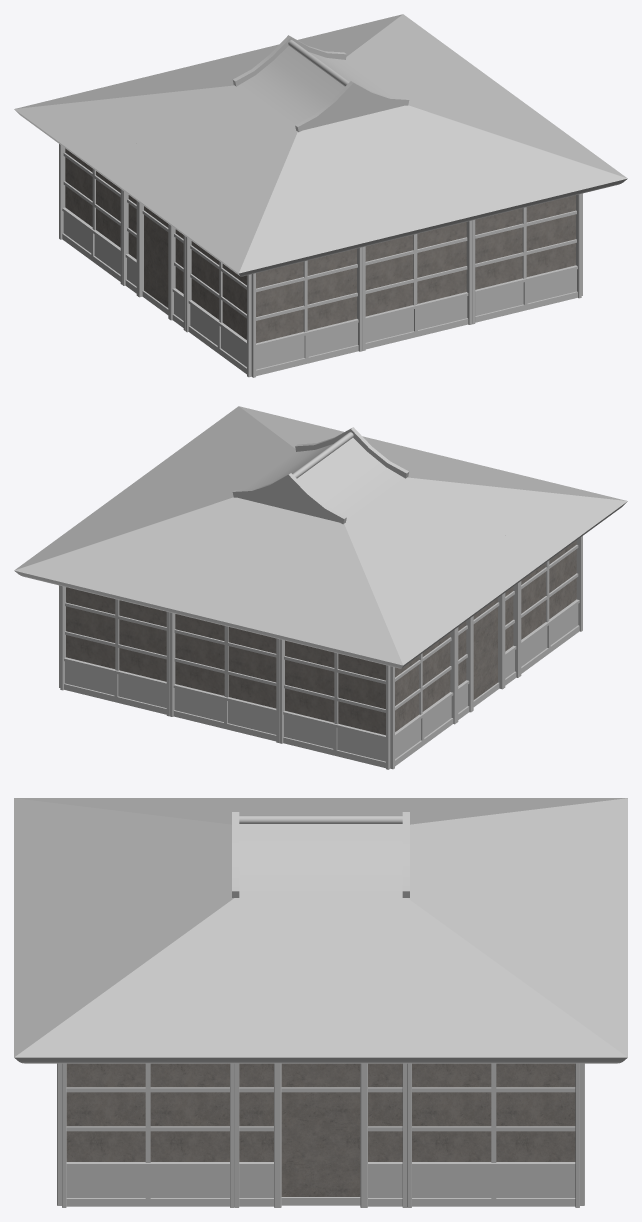
The model's file is Japanese Buildings 5.fbx.
The picture shows the model from 3 angles, top to bottom: view 1: azimuth 30°, elevation 25°; view 2: azimuth 150°, elevation 25°; view 3: azimuth 270°, elevation 25°; orthographic projection. The views are drawn at different scales.
Visible parts, largest first — view 1: Japanese_Buildings_5; view 2: Japanese_Buildings_5; view 3: Japanese_Buildings_5.
Part boxes in pixels (x1,y1,x2,y2): Japanese_Buildings_5: [14, 14, 627, 377]; Japanese_Buildings_5: [14, 406, 627, 769]; Japanese_Buildings_5: [14, 798, 627, 1207].
Bounding box in the file's own units: 711 × 363 × 711.
